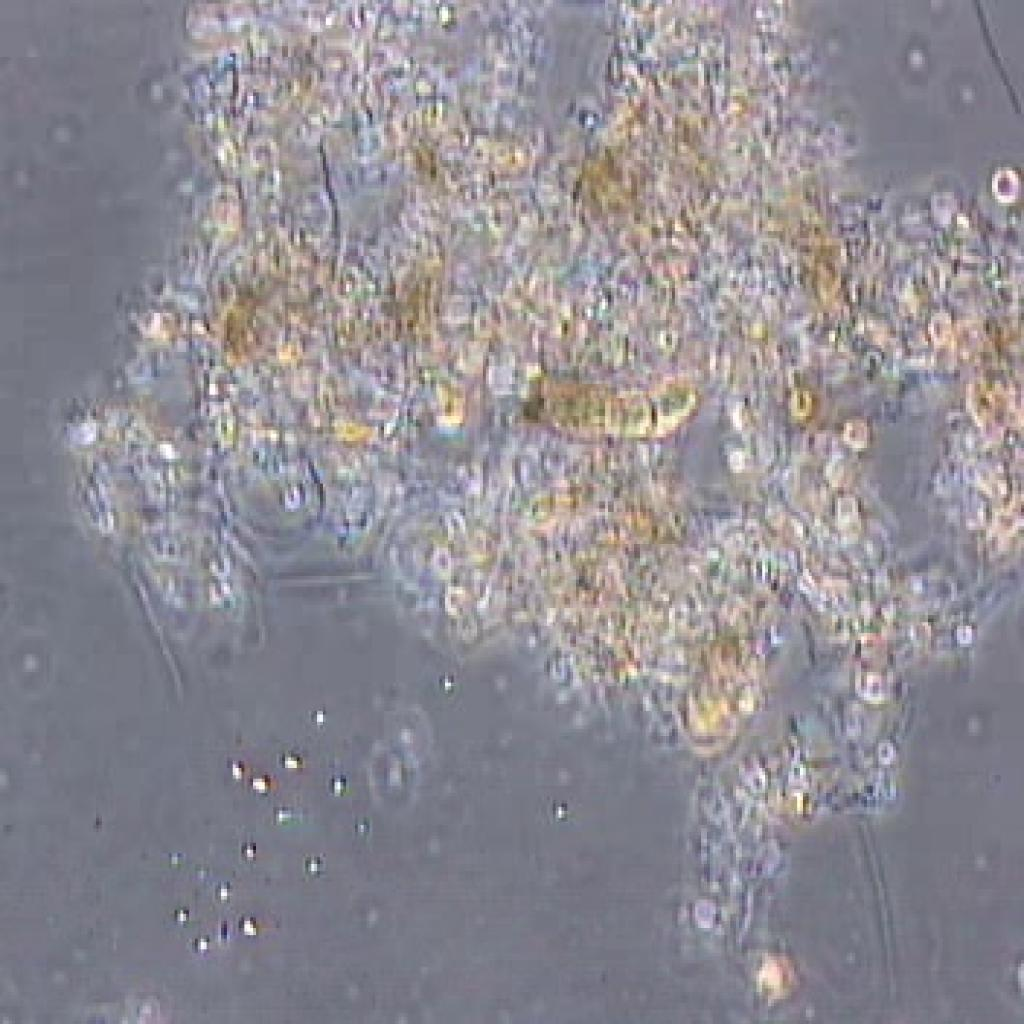Chaetonotus: (508, 364, 708, 454)
